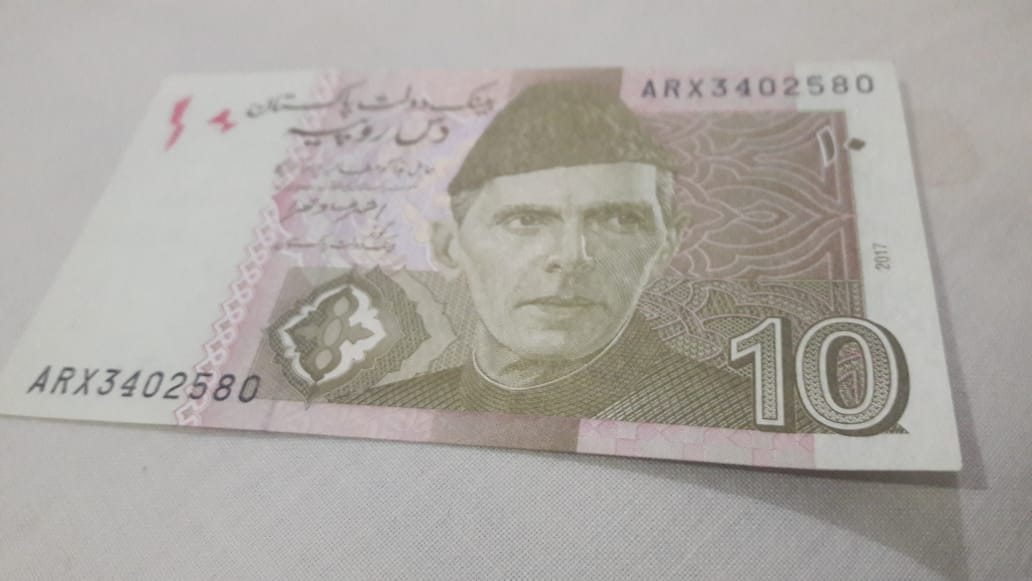10 rupee: (2, 38, 962, 475)
